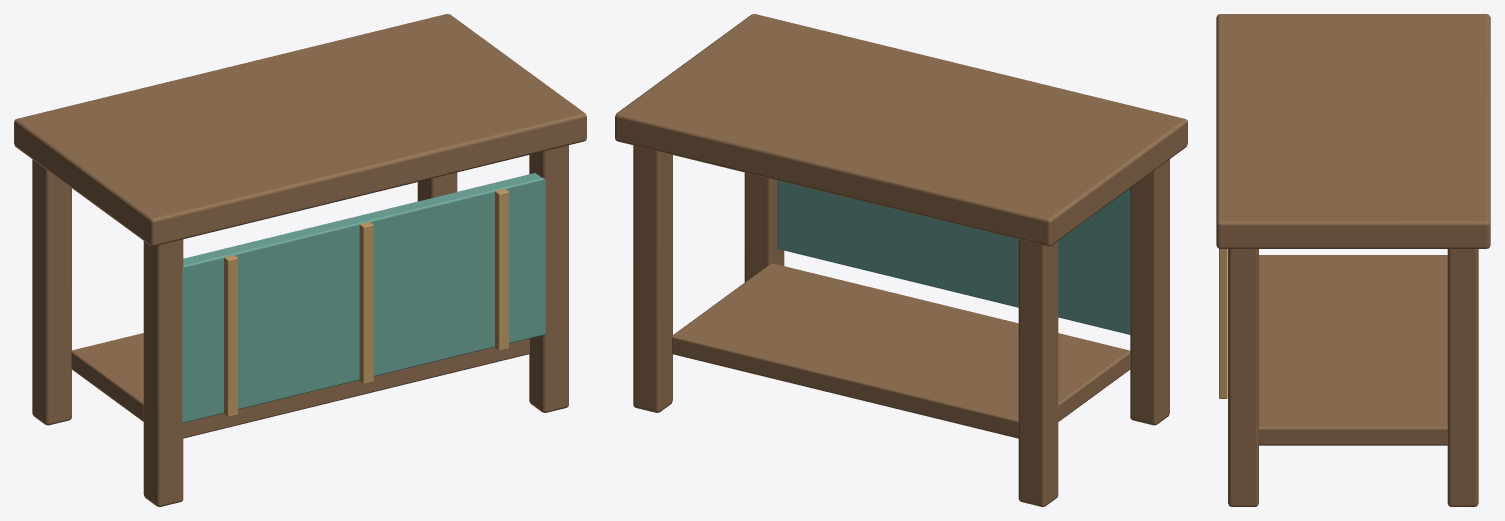
Rendered from fantasy-bathhouse-and-thermal-sanctuary-fantasy-bathho-4c9572d8__29474.glb.
3 views of the same model, side by side, from view 1: azimuth 30°, elevation 25°; view 2: azimuth 150°, elevation 25°; view 3: azimuth 270°, elevation 25° (orthographic).
Visible parts, largest first — view 1: fantasy-bathhouse-and-thermal-sanctuary-attendant-desk; view 2: fantasy-bathhouse-and-thermal-sanctuary-attendant-desk; view 3: fantasy-bathhouse-and-thermal-sanctuary-attendant-desk.
Boxes of the visible parts, x1,y1,x2,y2 form: fantasy-bathhouse-and-thermal-sanctuary-attendant-desk: (14, 14, 586, 506); fantasy-bathhouse-and-thermal-sanctuary-attendant-desk: (615, 14, 1187, 506); fantasy-bathhouse-and-thermal-sanctuary-attendant-desk: (1216, 14, 1490, 506).
Size of the model in its own units: 1.45 by 0.94 by 0.8.
